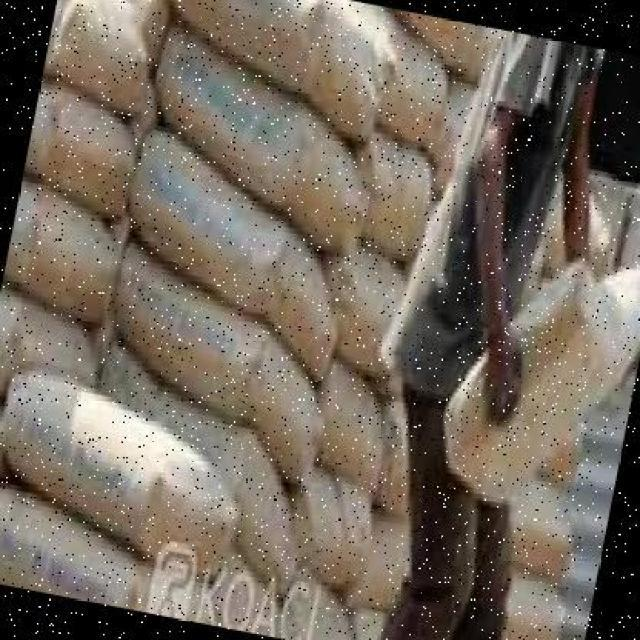gunny_bag: (129, 119, 286, 319), (150, 16, 303, 212), (111, 230, 264, 426), (1, 366, 161, 552), (97, 322, 244, 507), (0, 482, 140, 609), (187, 0, 322, 87), (360, 122, 433, 265), (316, 353, 385, 498), (329, 245, 407, 369), (373, 31, 448, 159), (299, 462, 376, 584), (399, 10, 504, 83), (210, 546, 283, 639), (515, 473, 576, 573), (283, 557, 350, 640), (577, 255, 640, 327), (504, 568, 567, 640), (0, 279, 17, 401)
